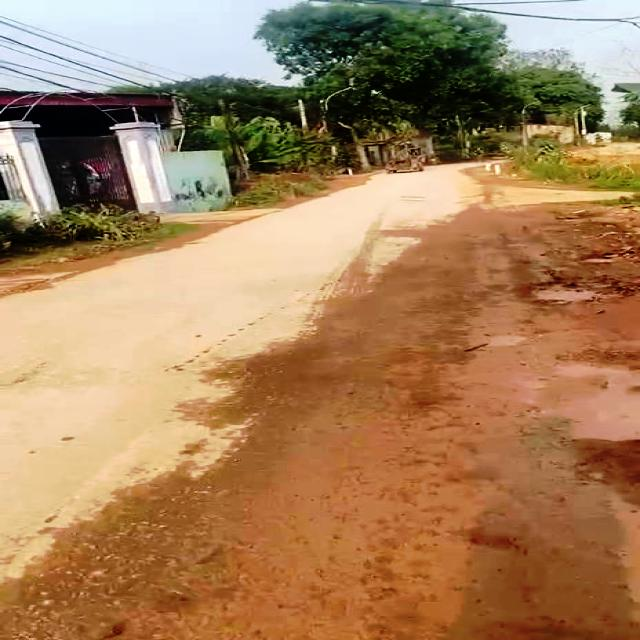pothole: (549, 362, 640, 441)
